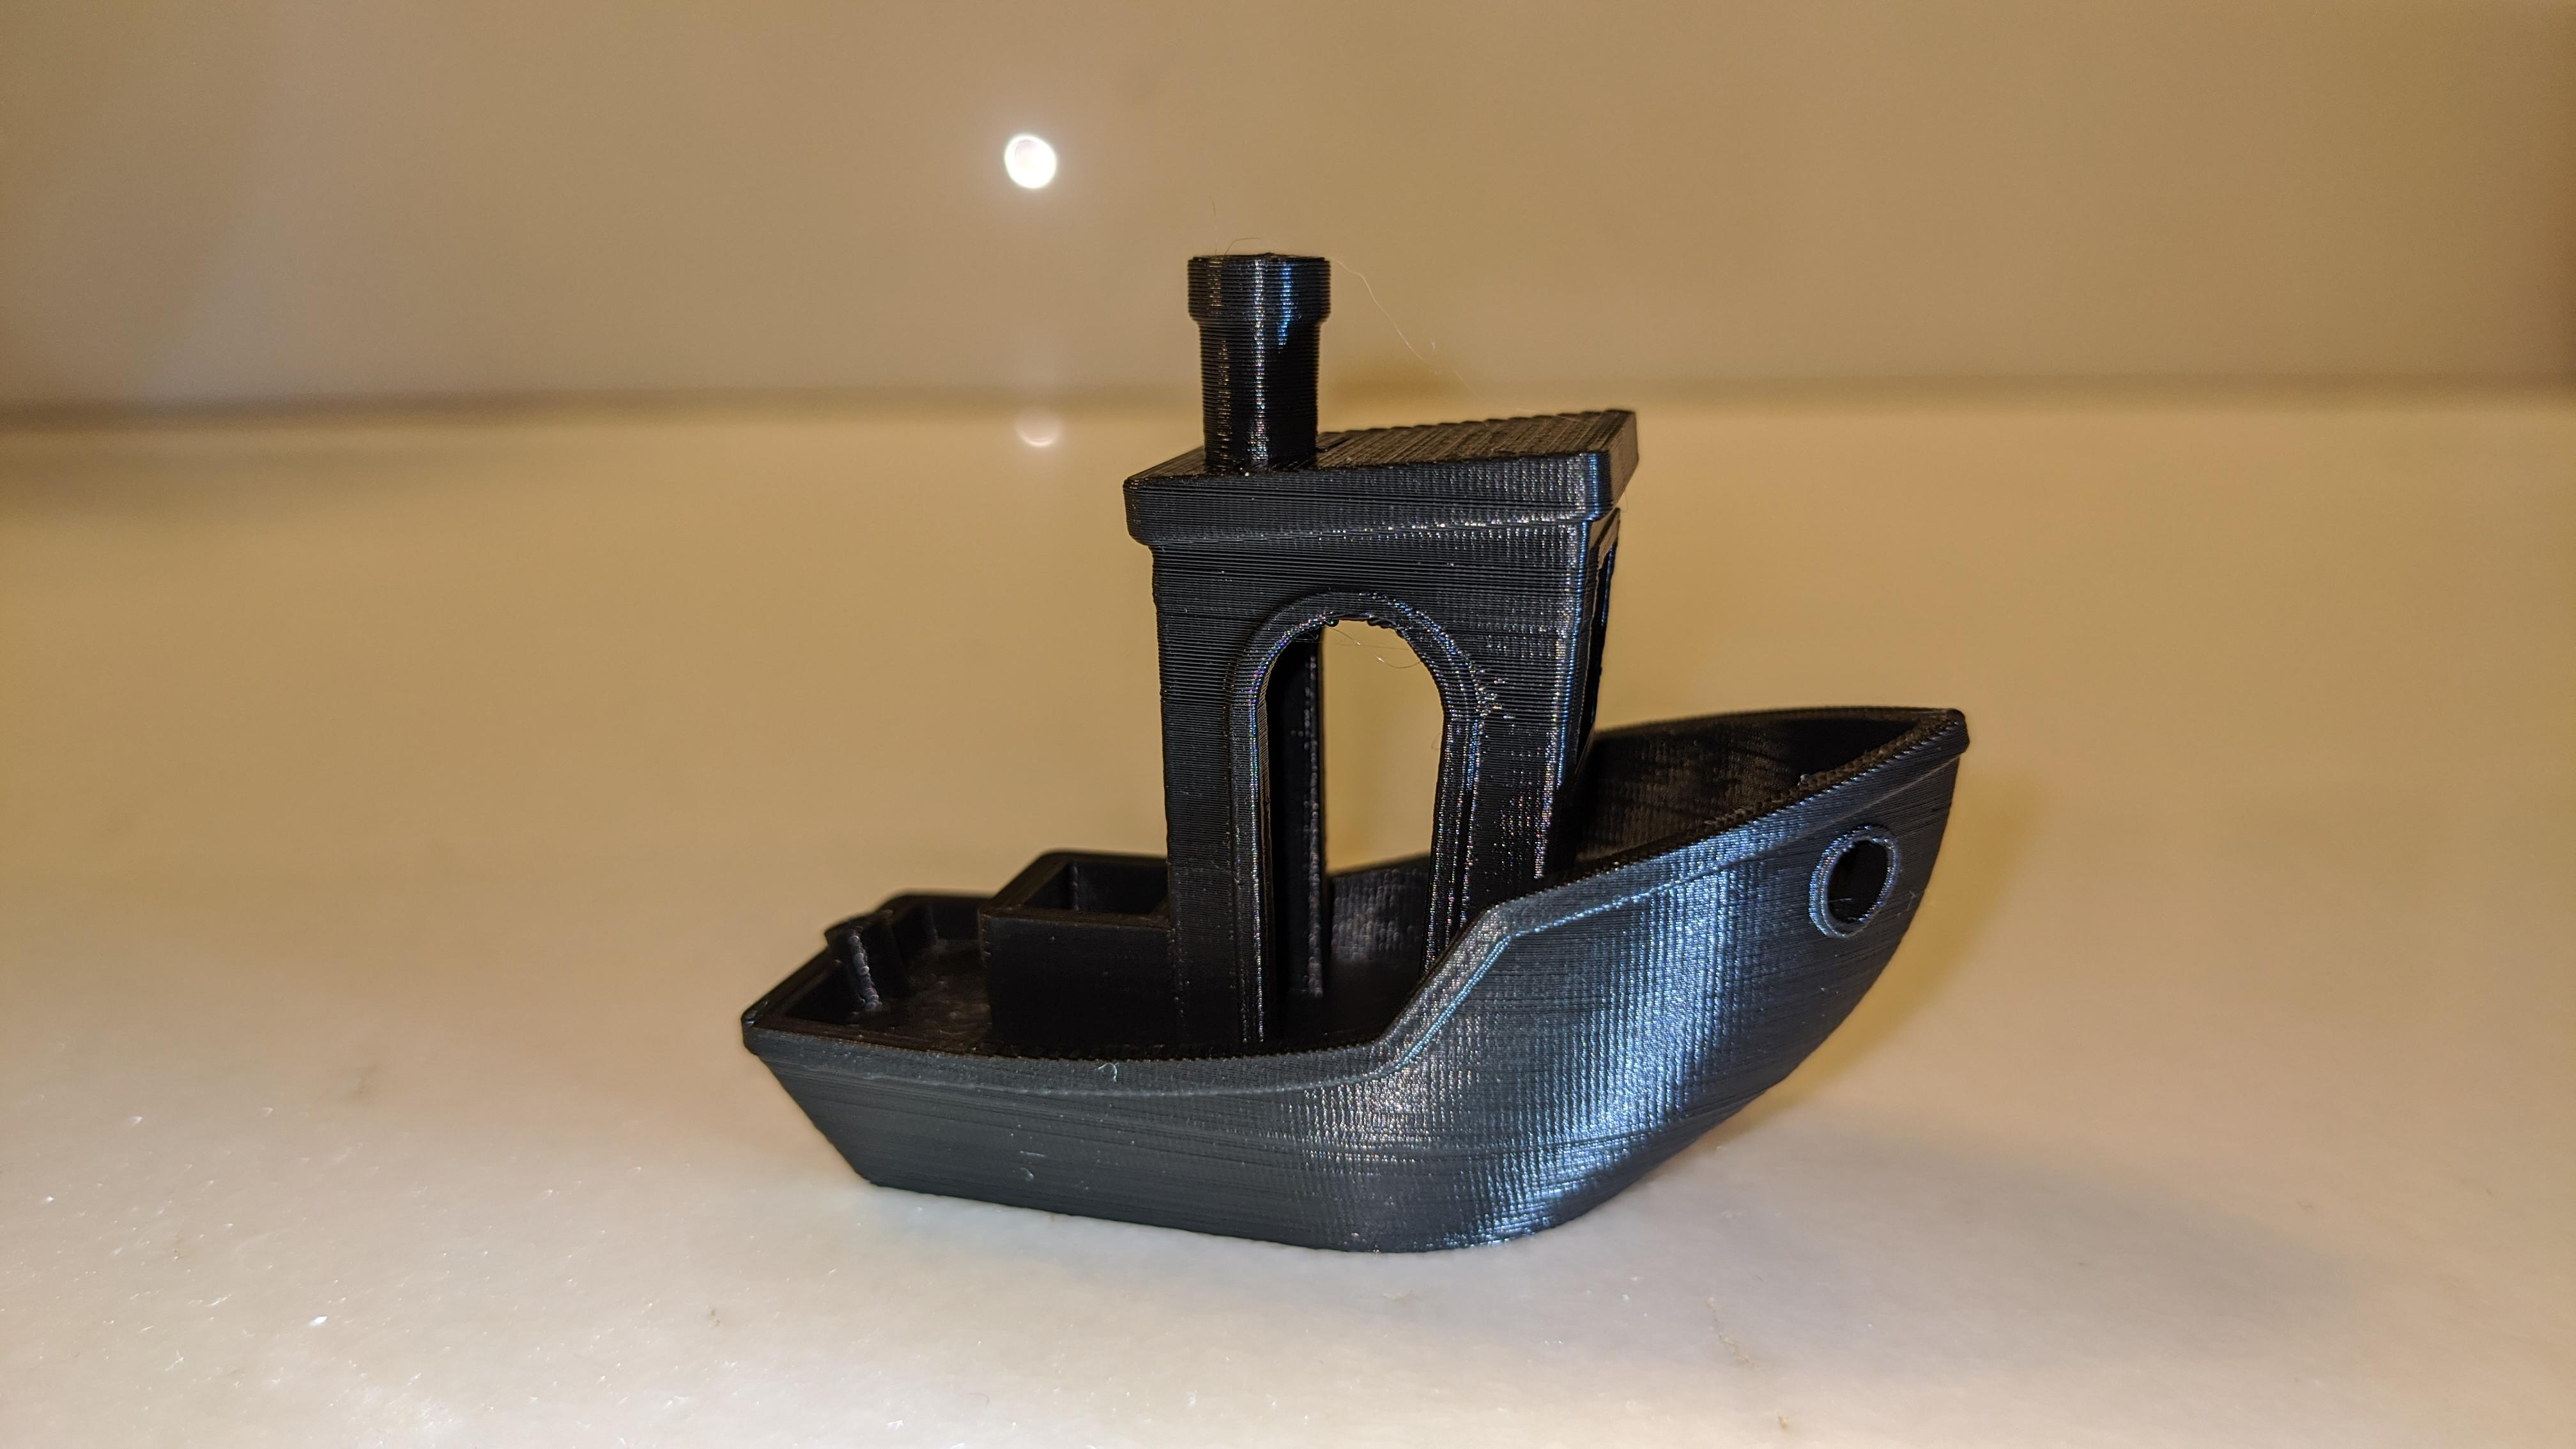Good: (674, 232, 2012, 1286)
